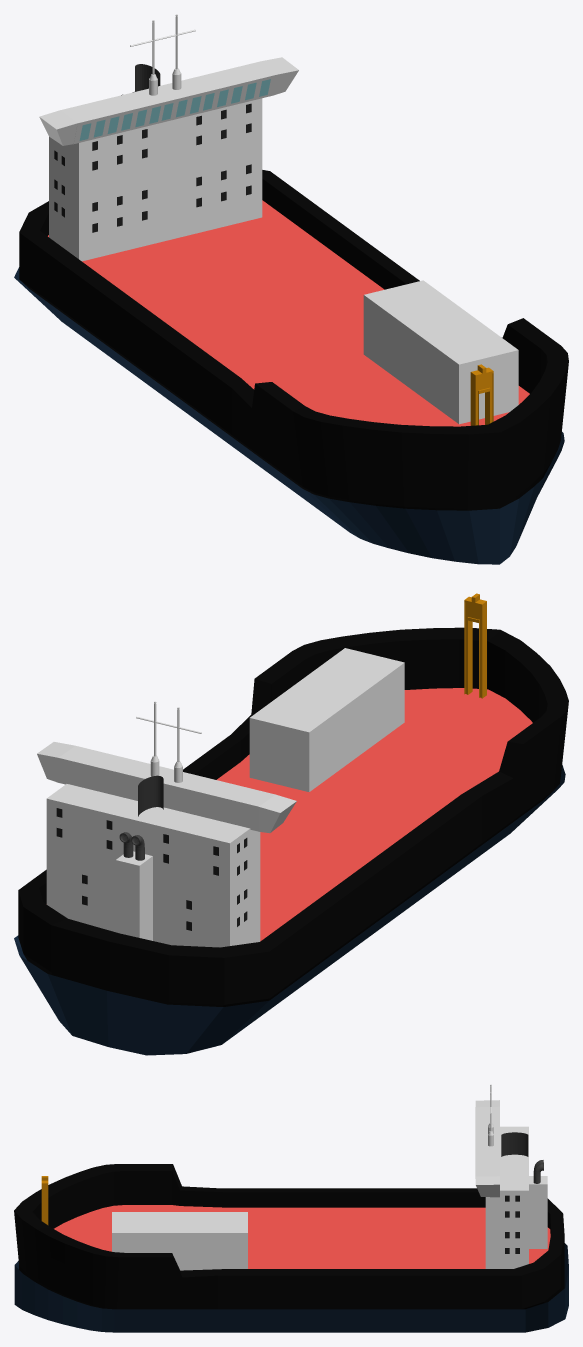
The model's file is container-ship.glb.
The picture shows the model from 3 angles, top to bottom: view 1: azimuth 30°, elevation 25°; view 2: azimuth 150°, elevation 25°; view 3: azimuth 270°, elevation 25°; orthographic projection. The views are drawn at different scales.
Parts seen in each view (by area): view 1: body, deck, Plane.013, Container, body.001, crain; view 2: body, Plane.013, deck, Container, body.001, crain; view 3: body, deck, body.001, Plane.013, Container, crain.
Boxes of the visible parts, left/top/right/bottom form: body: left=19, top=170, right=568, bottom=510; deck: left=48, top=200, right=529, bottom=426; Plane.013: left=39, top=14, right=298, bottom=261; Container: left=363, top=280, right=518, bottom=424; body.001: left=14, top=267, right=564, bottom=564; crain: left=470, top=364, right=493, bottom=425; body: left=18, top=627, right=568, bottom=1006; Plane.013: left=37, top=701, right=296, bottom=947; deck: left=217, top=688, right=532, bottom=941; Container: left=249, top=648, right=404, bottom=791; body.001: left=14, top=765, right=565, bottom=1055; crain: left=464, top=593, right=486, bottom=698; body: left=14, top=1164, right=564, bottom=1309; deck: left=54, top=1205, right=550, bottom=1268; body.001: left=14, top=1243, right=568, bottom=1332; Plane.013: left=475, top=1084, right=547, bottom=1268; Container: left=112, top=1212, right=247, bottom=1270; crain: left=41, top=1176, right=48, bottom=1225.
Size of the model in its own units: 1.67 by 1.87 by 4.2.
